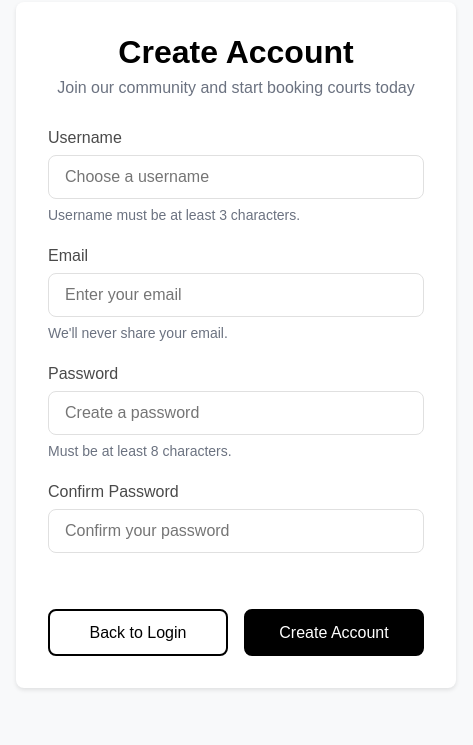
Test case: Register Component › validates empty fields
Click the button "Create Account": click(334, 632) [244,609,424,656]
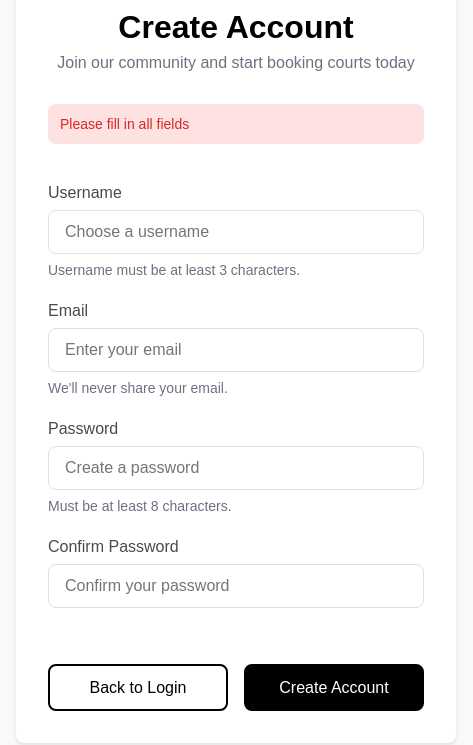
Check: the text "Please fill in all fields" is shown, box [48,104,424,144]
